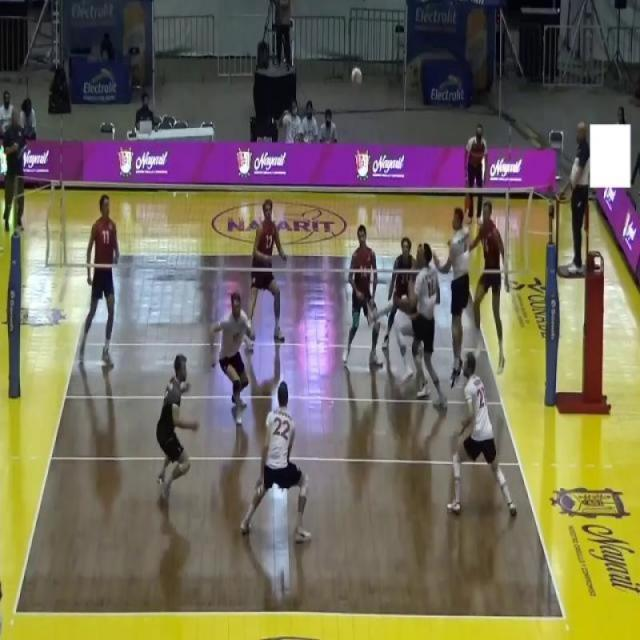volleyball: (351, 64, 364, 91)
